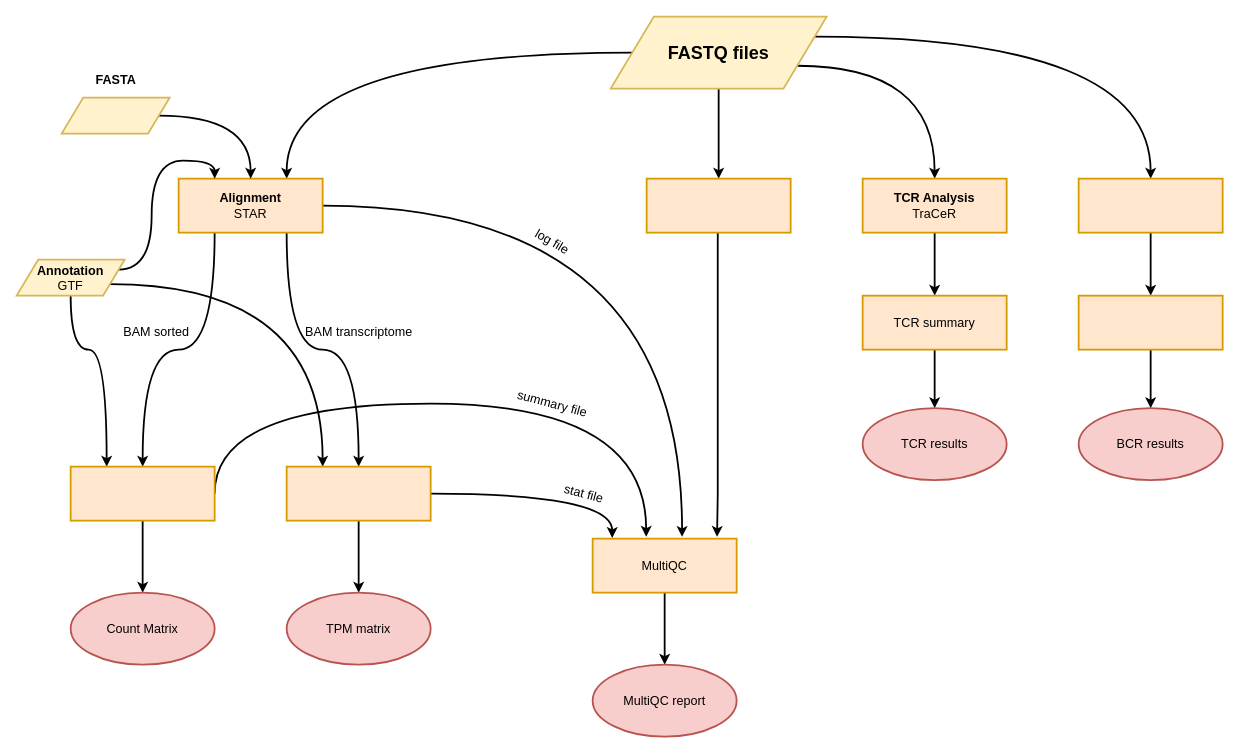
Image size: 1238x752. Some labels were removed from this diagram. The centre of each missing label's shape, as x and y in pixels:
"BCR Analysis BraCeR" belongs at pixel 1150 205.
"BCR summary" belongs at pixel 1150 322.
"Expression Feature Counts" belongs at pixel 142 493.
"Expression RSEM" belongs at pixel 358 493.
"Genome Hg38" belongs at pixel 115 115.
"Quality Control FASTQC" belongs at pixel 718 205.
